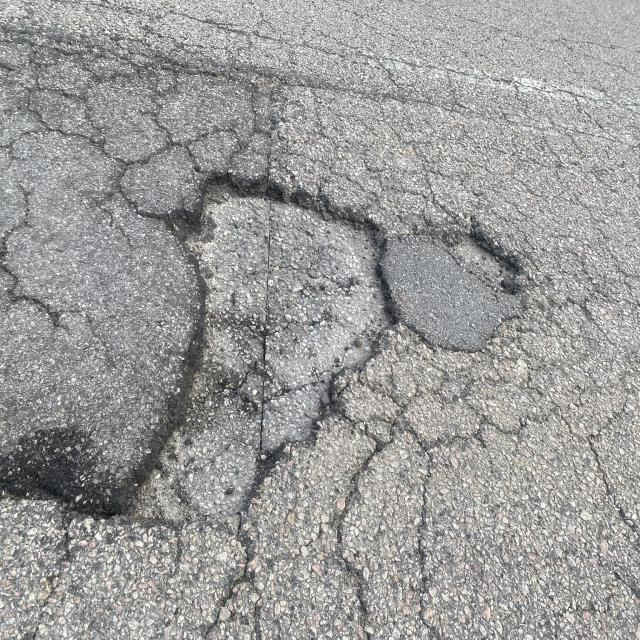pothole: (158, 131, 384, 507), (399, 172, 532, 451)
